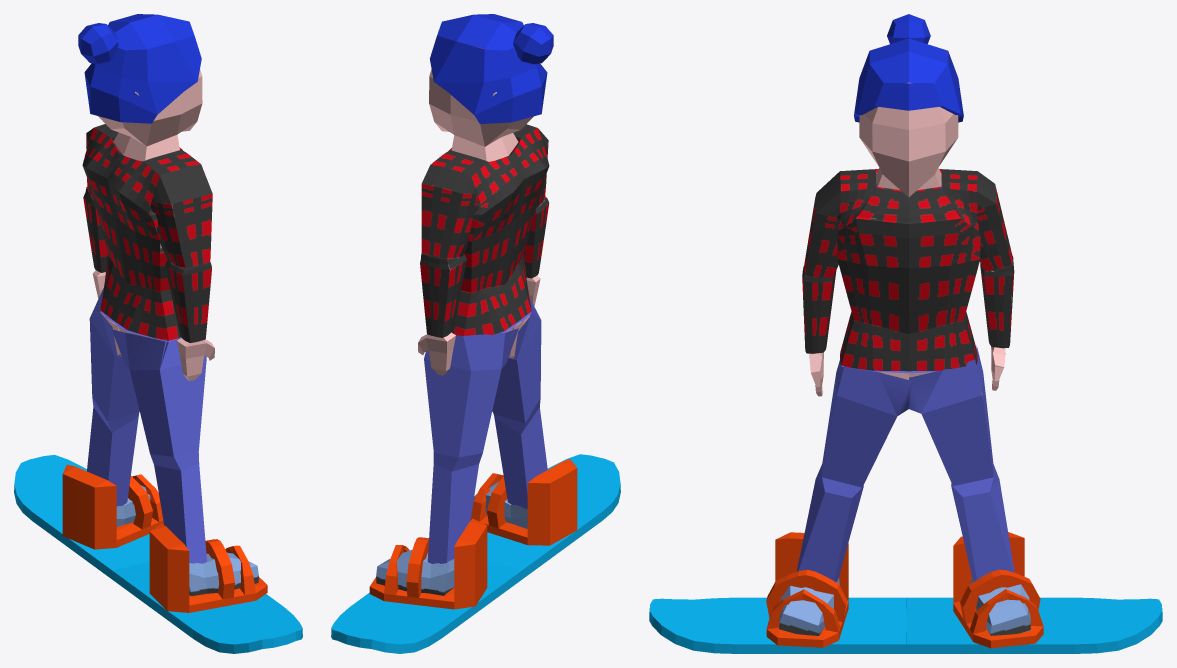
File: snowboard.glb
The picture shows the model from 3 angles, left to right: view 1: azimuth 30°, elevation 25°; view 2: azimuth 150°, elevation 25°; view 3: azimuth 270°, elevation 25°; orthographic projection. The views are drawn at different scales.
Parts seen in each view (by area): view 1: char_Cube.003, Plane, Cube, Cube.001; view 2: char_Cube.003, Plane, Cube.001, Cube; view 3: char_Cube.003, Plane, Cube, Cube.001.
Part boxes in pixels (x1,y1,x2,y2): char_Cube.003: (78,14,258,595); Plane: (14,455,302,653); Cube: (62,464,163,549); Cube.001: (149,523,267,612); char_Cube.003: (376,14,553,595); Plane: (331,454,620,653); Cube.001: (470,459,577,545); Cube: (369,518,487,609); char_Cube.003: (779,14,1030,635); Plane: (649,597,1162,653); Cube: (953,532,1043,648); Cube.001: (766,532,848,647).
Bounding box in the file's own units: 0.15 × 0.614 × 0.4895.
4 materials, 4 textured.
